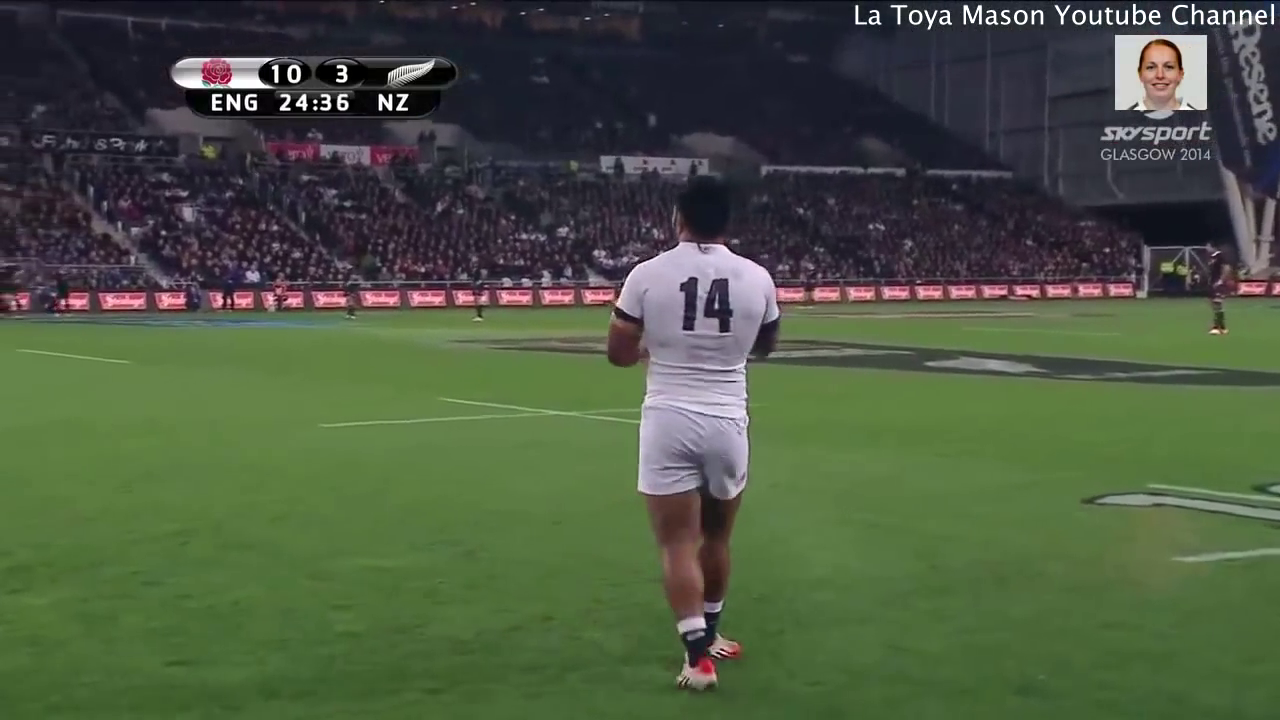player: (598, 180, 774, 685)
